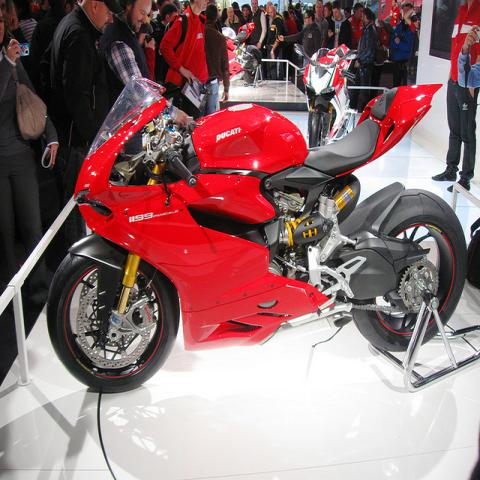motorcycle: (44, 77, 475, 387), (293, 45, 356, 146), (221, 21, 263, 88)
